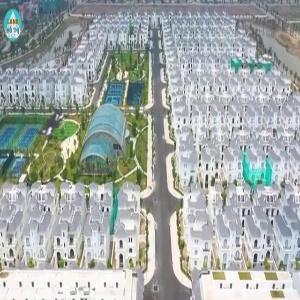drone: (6, 78, 97, 169)
